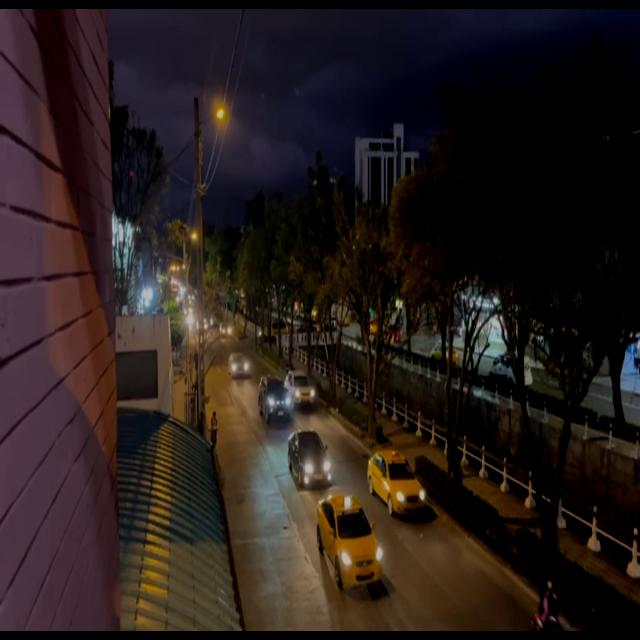SUV: (261, 379, 291, 421), (286, 372, 313, 406)
